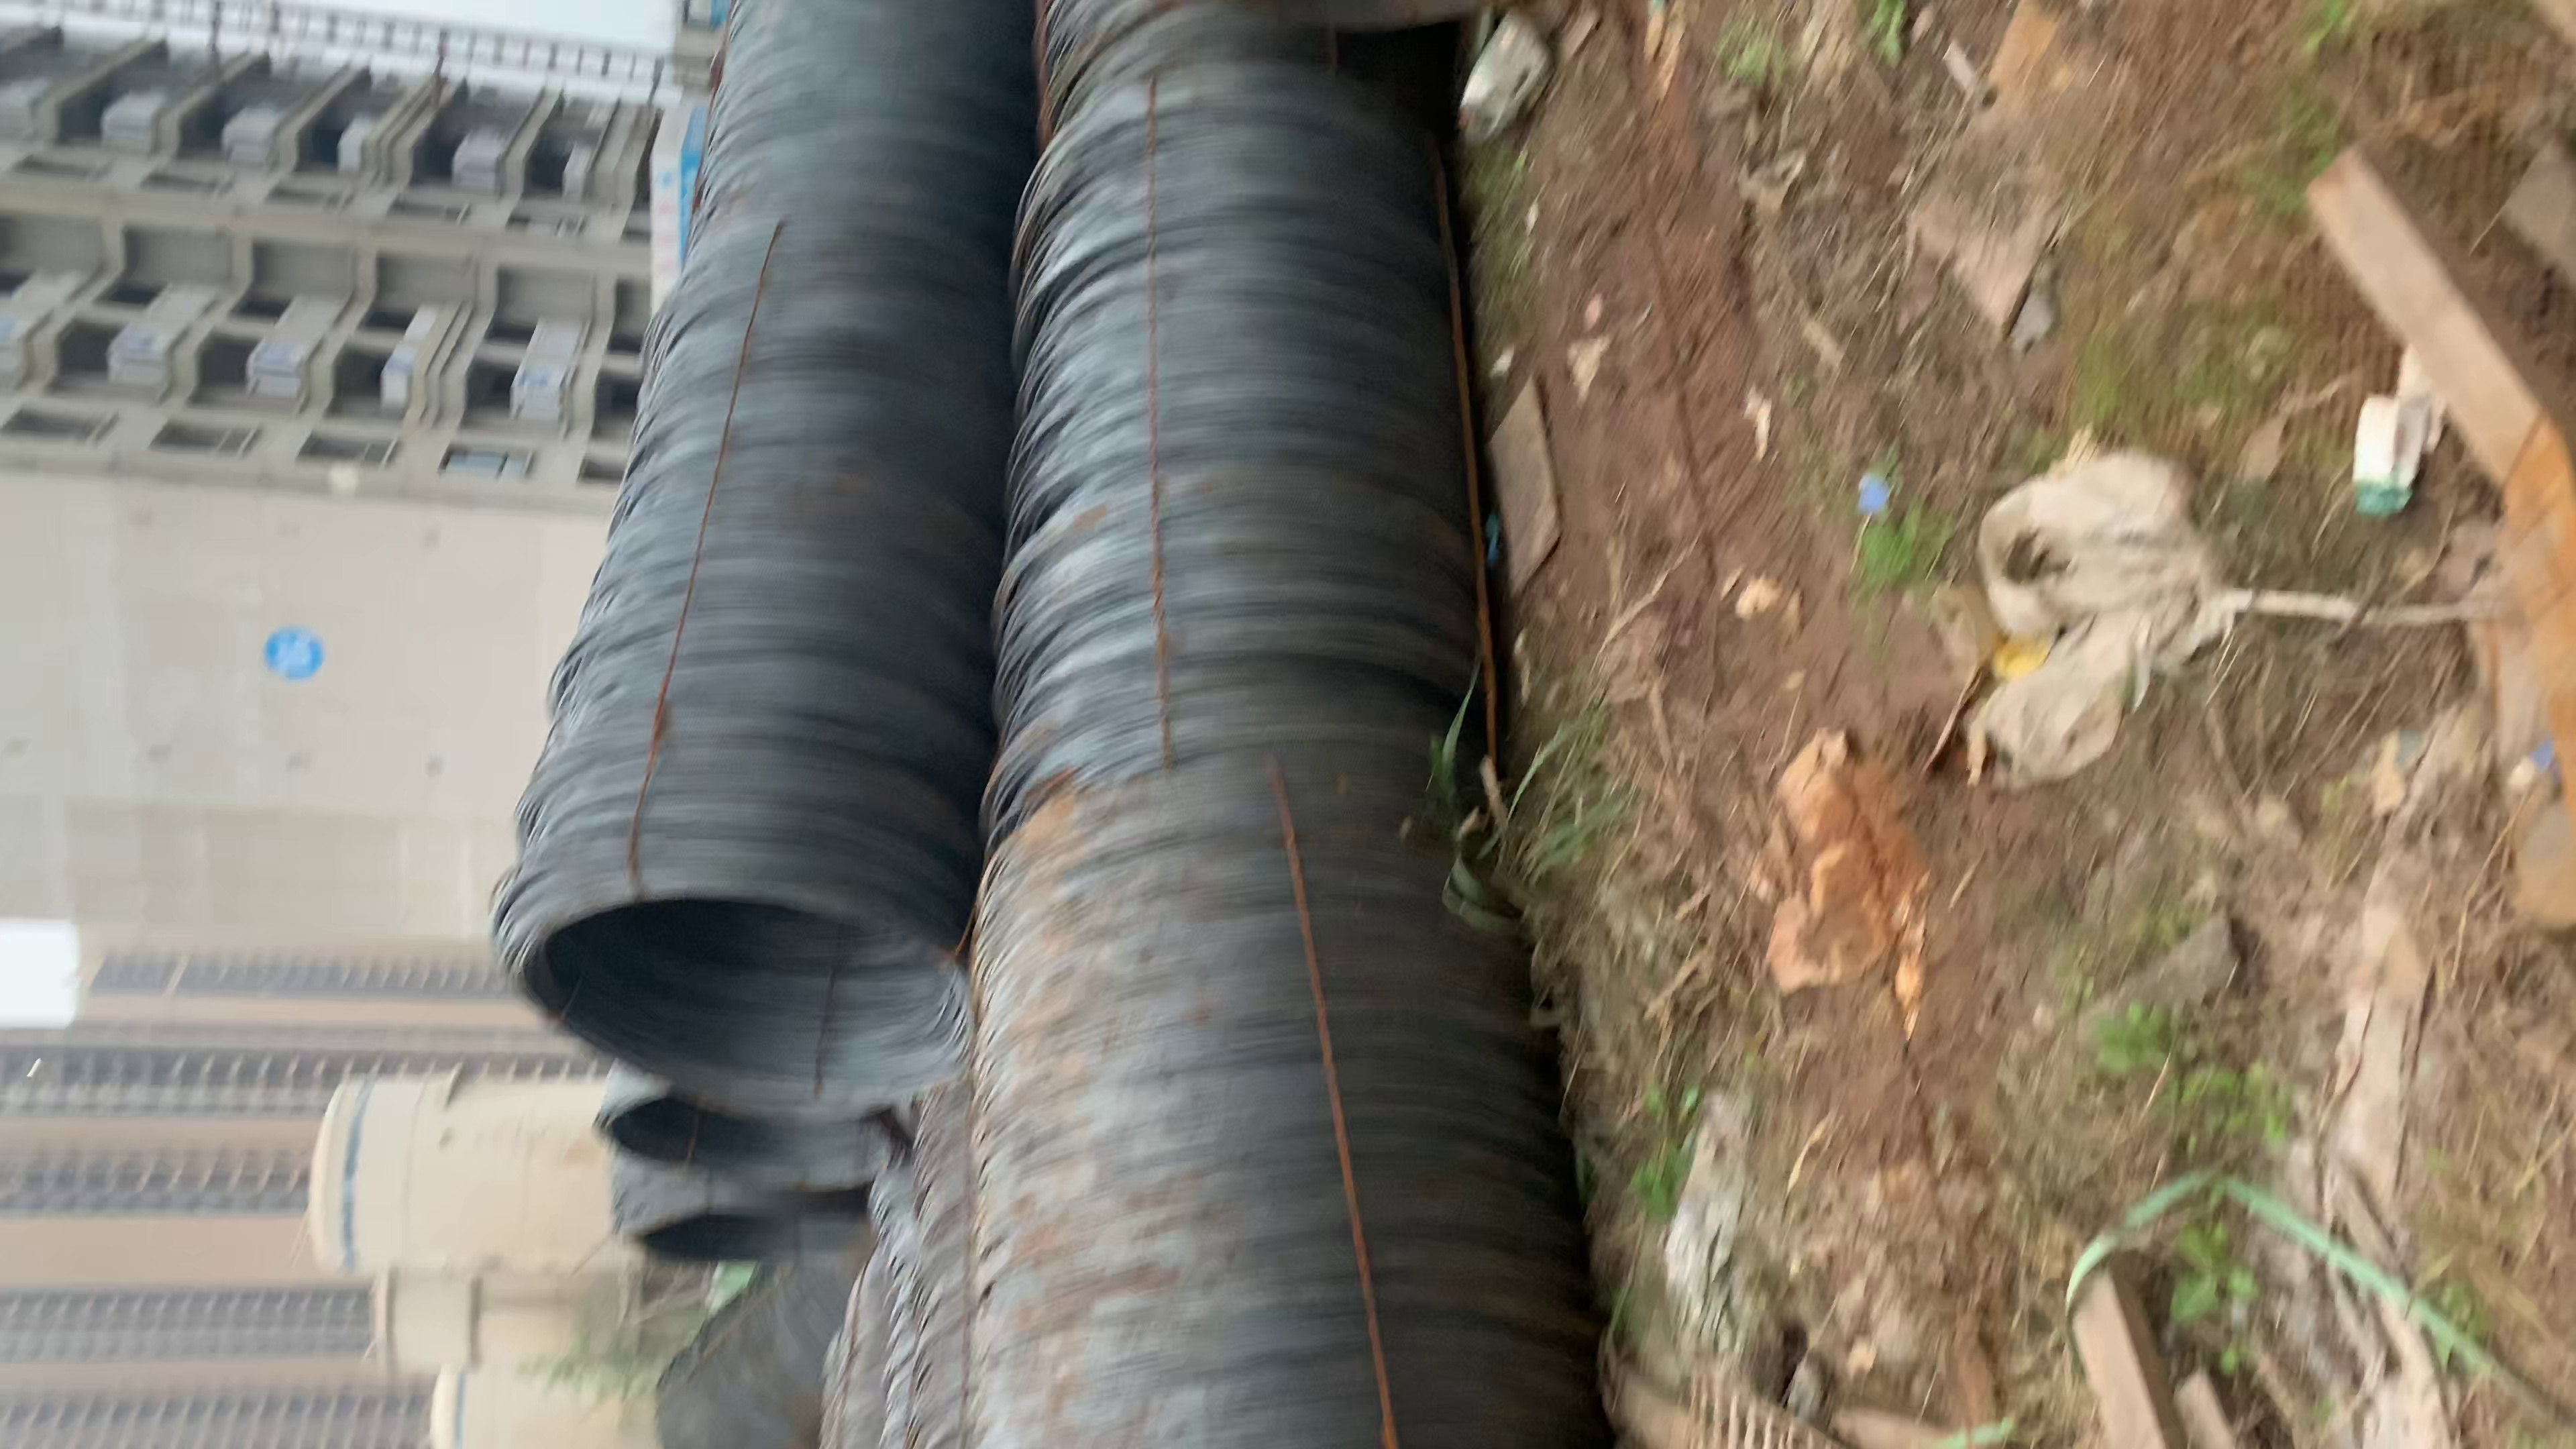coil: (982, 96, 1507, 731), (497, 872, 975, 1125), (598, 1106, 911, 1210), (632, 1192, 867, 1274)
